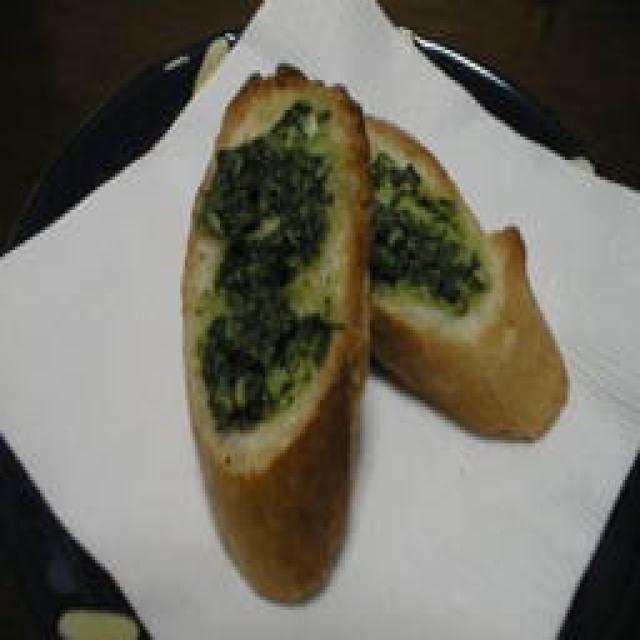面包点心: (190, 53, 540, 577)
